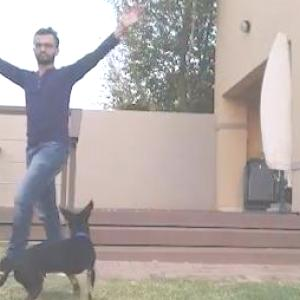takeoff: (0, 12, 162, 276)
